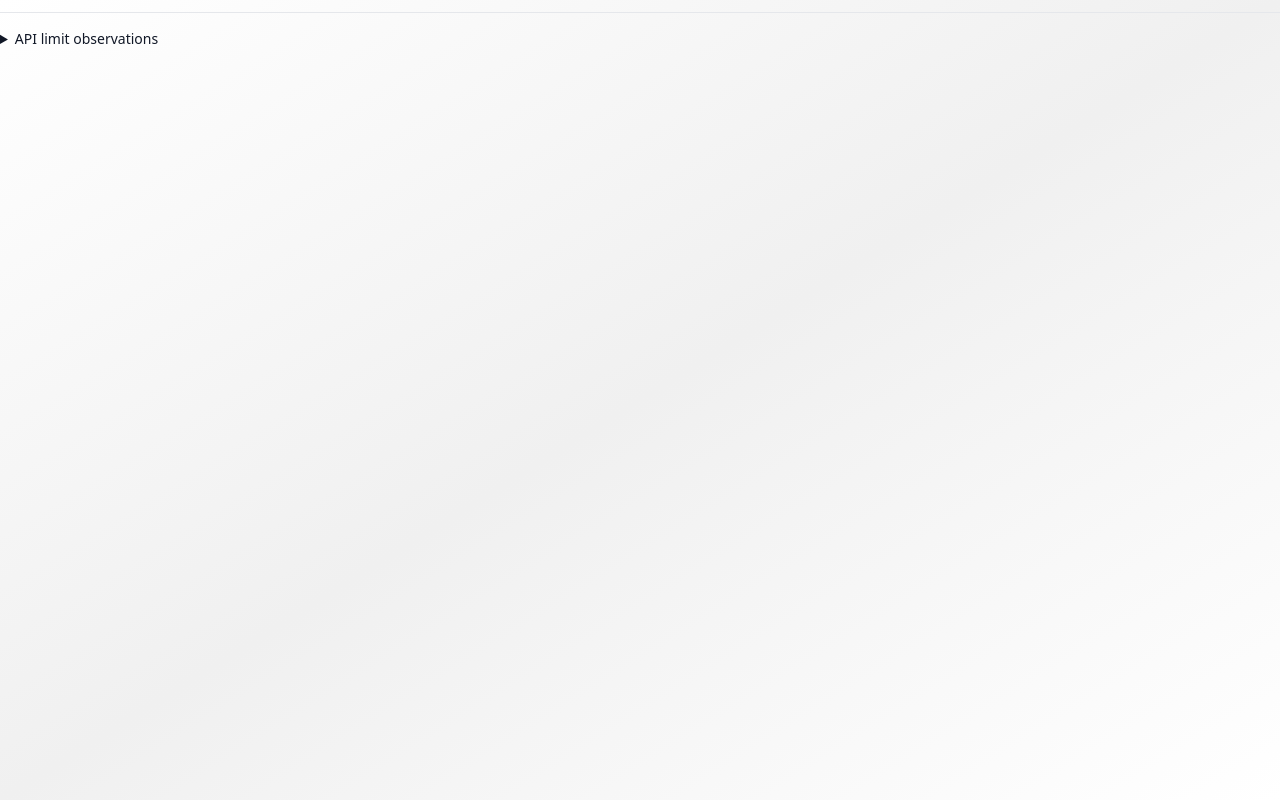
provider HTTP limit observations › queries only when expanded and distinguishes empty
The image size is (1280, 800).
Click the heading "API limit observations". click: (86, 38)
box: [15,29,158,48]
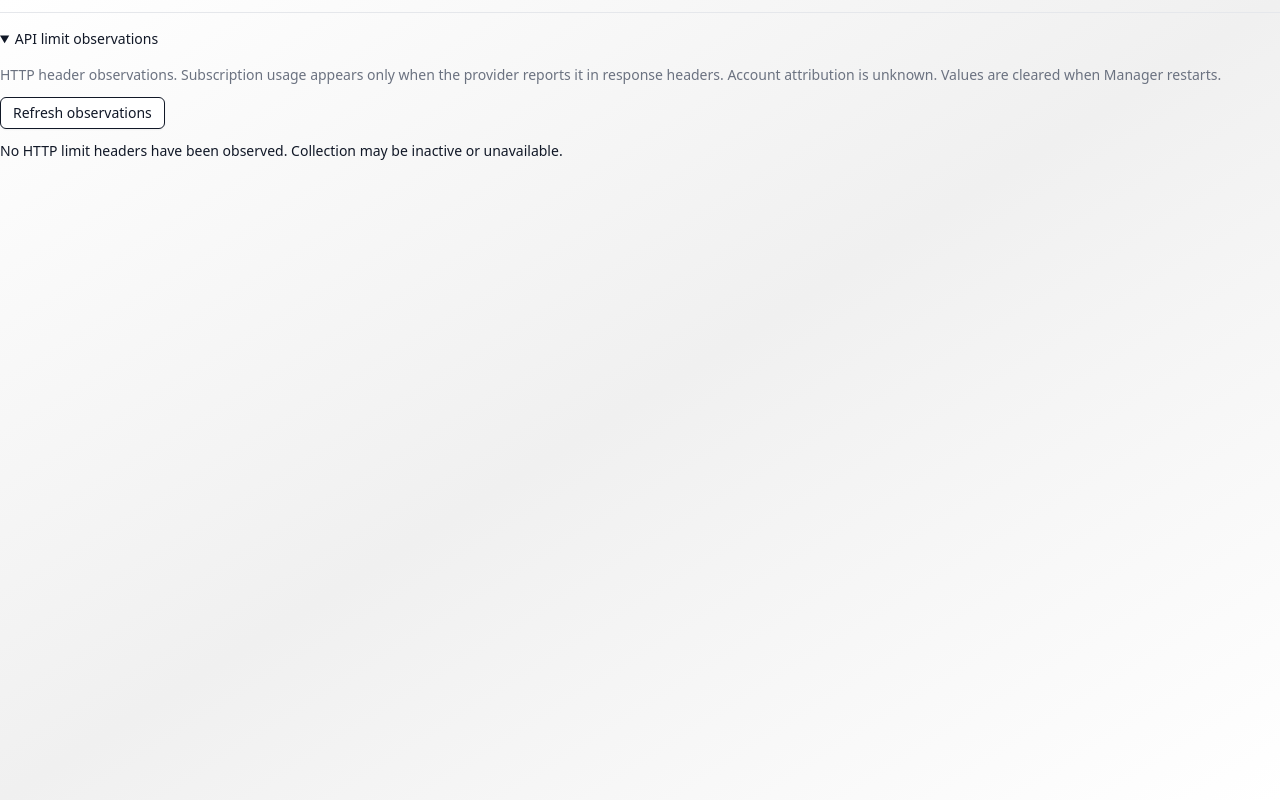
Expected: the text "No HTTP limit headers have been observed. Collection may be inactive or unavailable." is shown, [0,141,563,160]
